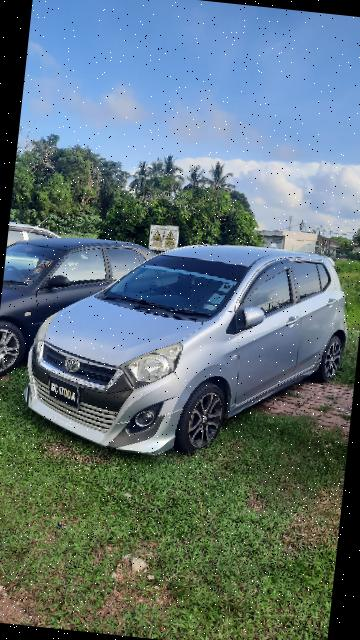License_Plate: (45, 376, 85, 412)
car: (21, 219, 360, 477), (1, 211, 161, 394)
